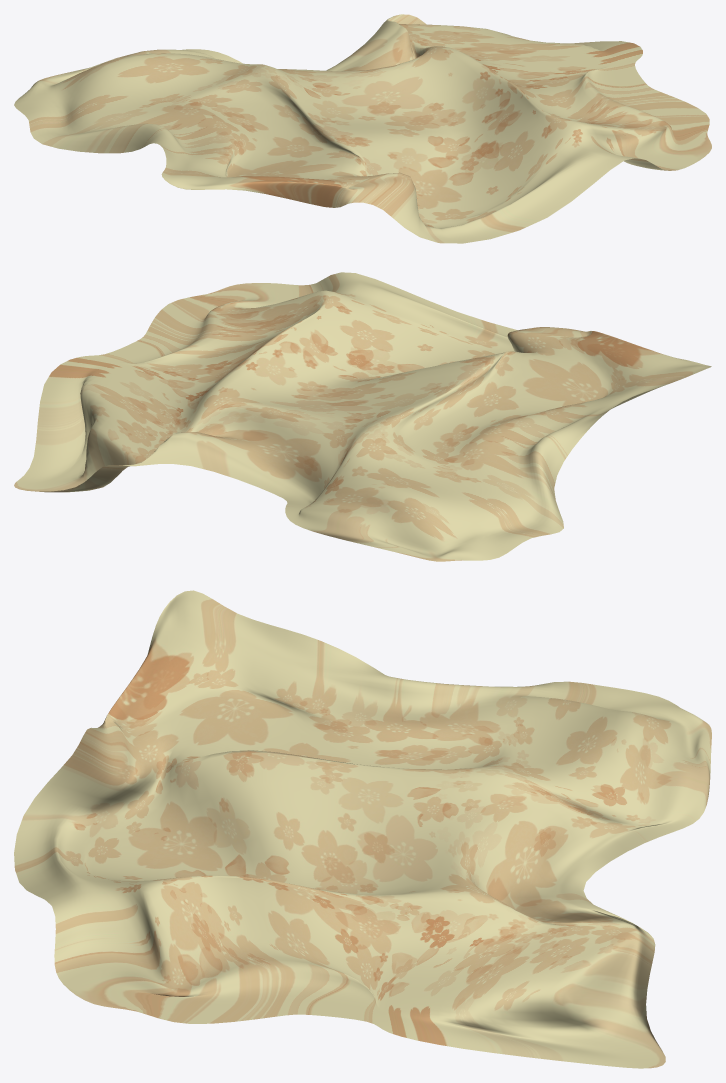
The model's file is quilt sister.fbx.
3 views of the same model, one above another, from view 1: azimuth 30°, elevation 25°; view 2: azimuth 150°, elevation 25°; view 3: azimuth 270°, elevation 25° (orthographic). The views are drawn at different scales.
Parts seen in each view (by area): view 1: pasted__polySurface2; view 2: pasted__polySurface2; view 3: pasted__polySurface2.
Part boxes in pixels (x1=…): pasted__polySurface2: x1=14, y1=14, x2=711, y2=243; pasted__polySurface2: x1=14, y1=272, x2=711, y2=561; pasted__polySurface2: x1=14, y1=590, x2=711, y2=1068.
Size of the model in its own units: 0.8244 by 0.1577 by 0.6766.
